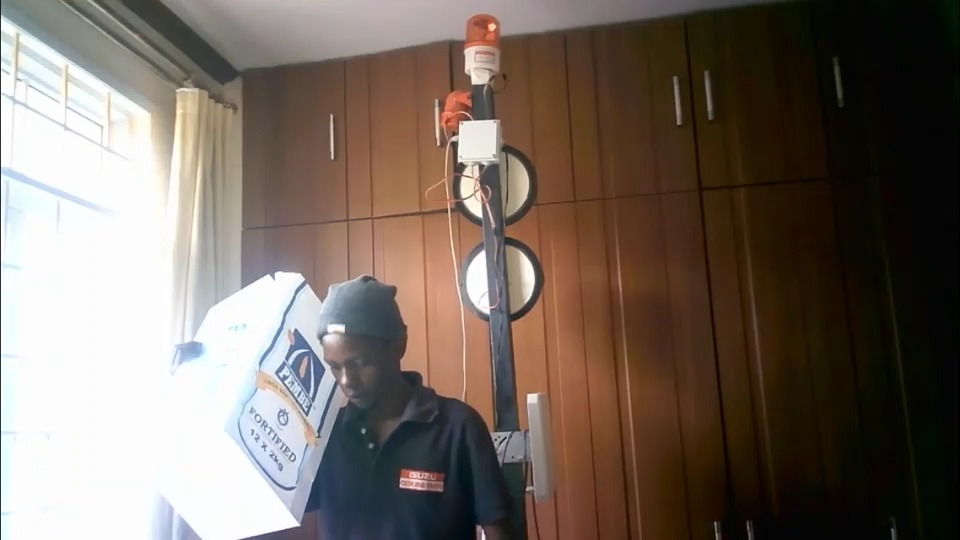wheat_flour_blue_label: (162, 273, 324, 529)
